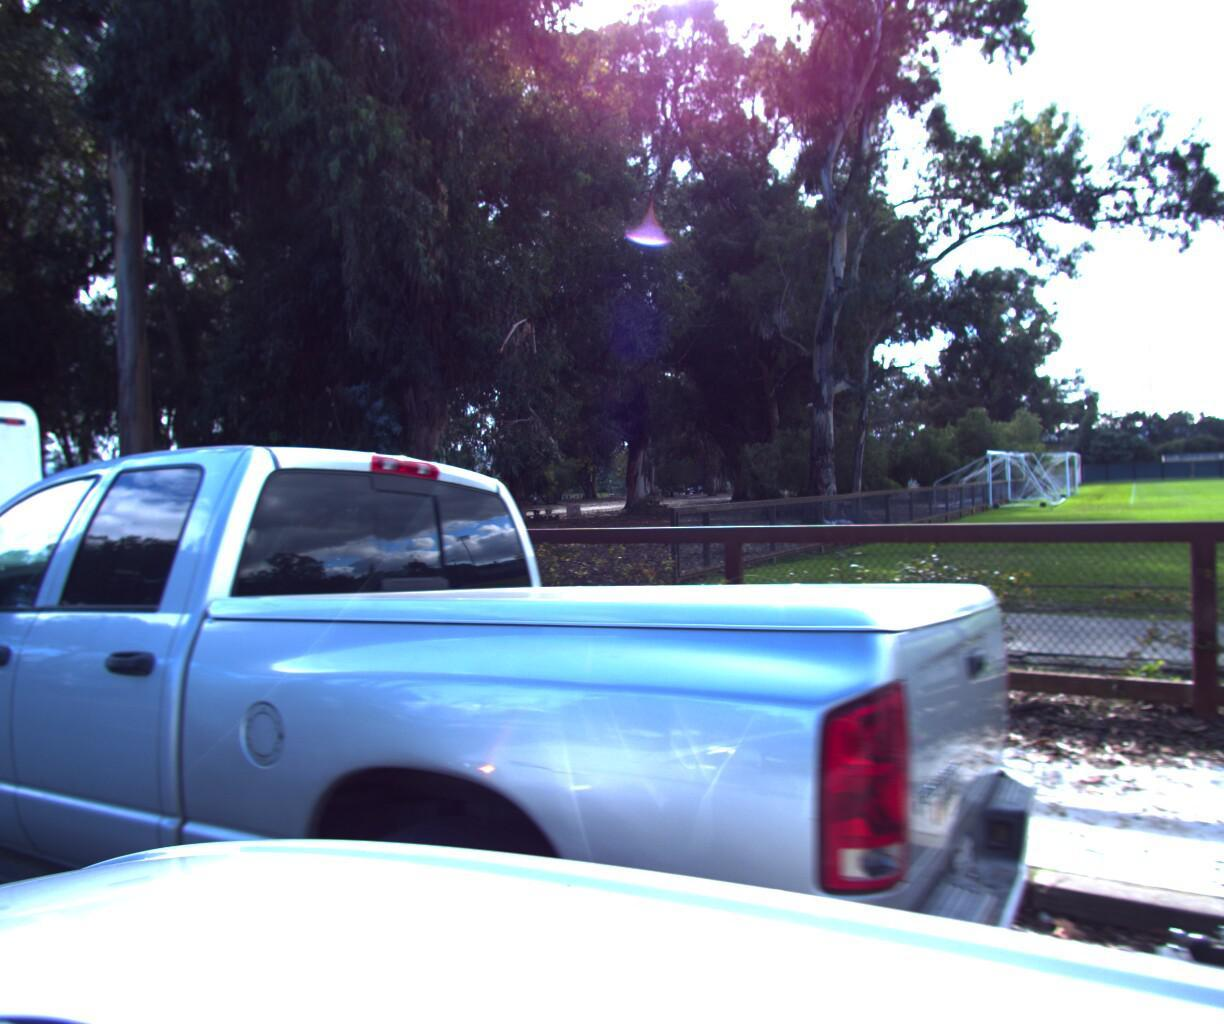car: (0, 288, 1079, 1024)
other_vehicle: (0, 339, 87, 833)
